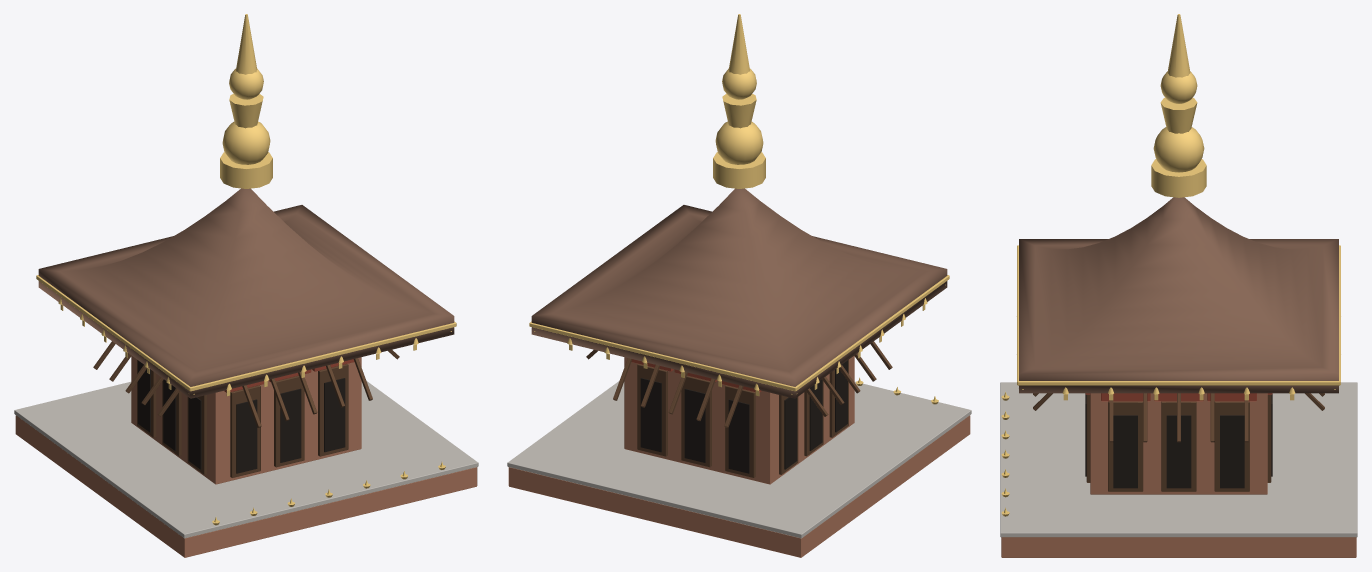
Rendered from pagoda1.glb.
The picture shows the model from 3 angles, left to right: view 1: azimuth 30°, elevation 25°; view 2: azimuth 150°, elevation 25°; view 3: azimuth 270°, elevation 25°; orthographic projection. The views are drawn at different scales.
Visible parts, largest first — view 1: pagoda1; view 2: pagoda1; view 3: pagoda1.
Boxes of the visible parts, x1=… form: pagoda1: x1=14, y1=14, x2=478, y2=557; pagoda1: x1=507, y1=14, x2=971, y2=557; pagoda1: x1=1000, y1=14, x2=1357, y2=557.
Bounding box in the file's own units: 1.01 × 1.46 × 1.01.
